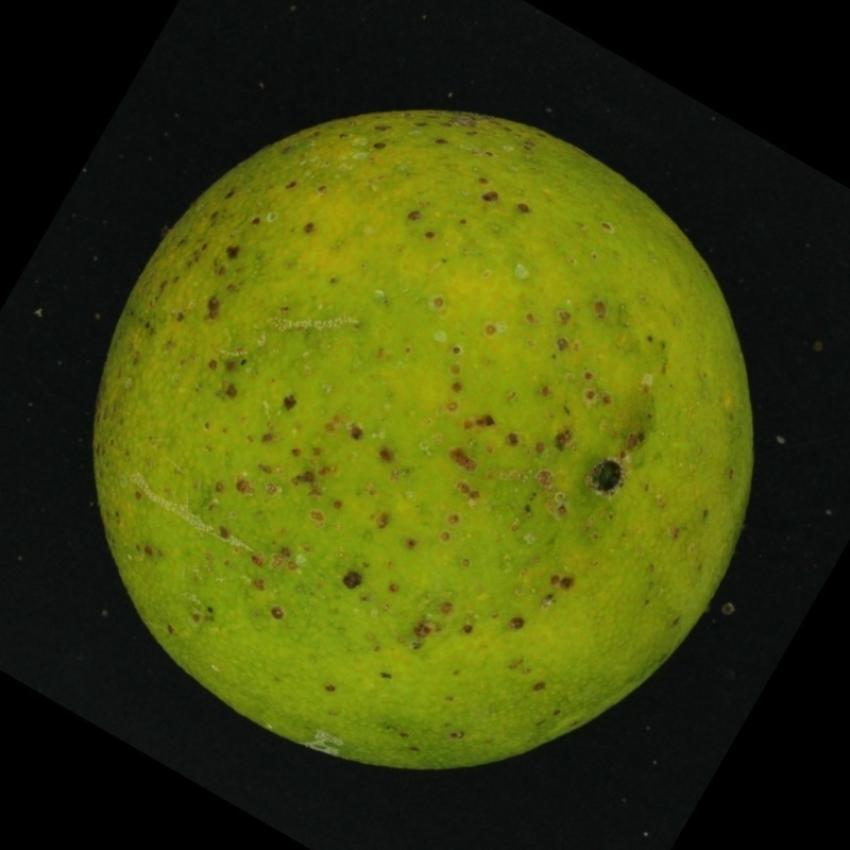Mal estado: (75, 74, 775, 782)
